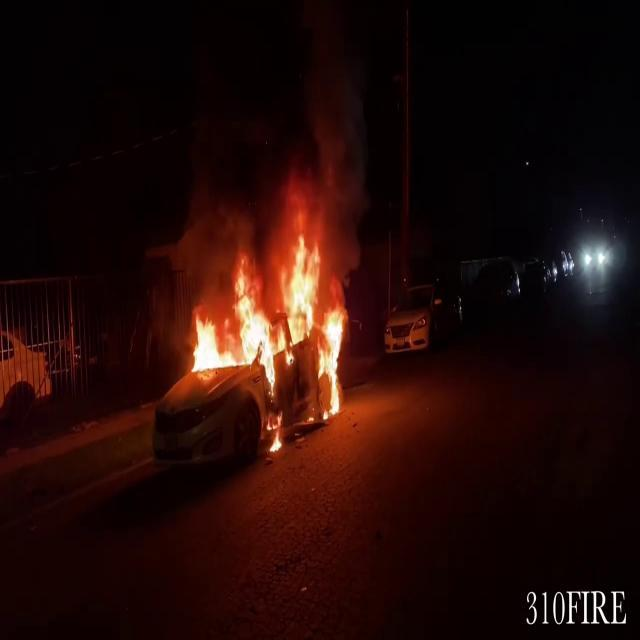Fire: (182, 208, 354, 442)
Smoke: (270, 3, 376, 260)
